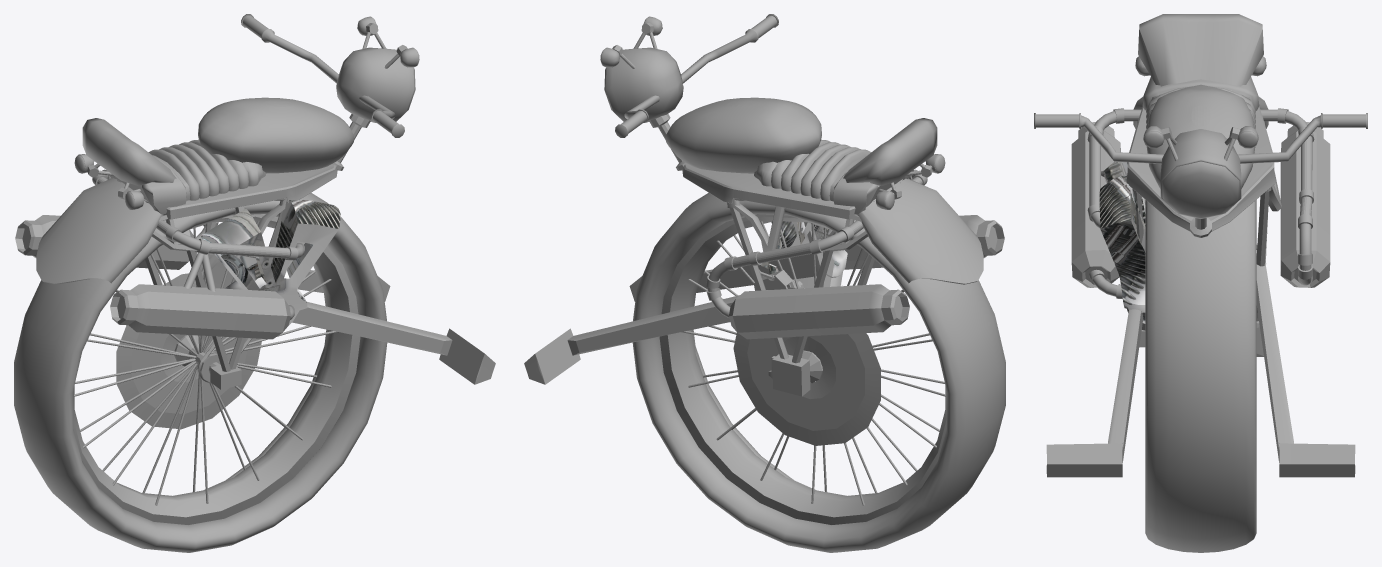
File: UniMotorBike.fbx
3 views of the same model, side by side, from view 1: azimuth 30°, elevation 25°; view 2: azimuth 150°, elevation 25°; view 3: azimuth 270°, elevation 25° (orthographic). The views are drawn at different scales.
Visible parts, largest first — view 1: Other_Kind_of_wheel, Gas_Tank, Mud_Guard, Exhaust_4_Geo, Engine, Brake, FootRest_1_Geo, Seat, Headlight, Frame_Main_3_Geo, Back_Seat, Handlebars (+7 smaller); view 2: Other_Kind_of_wheel, Brake, Gas_Tank, Mud_Guard, Exhaust_5_Geo, FootRest_1_Geo, Seat, Headlight, Frame_Main_3_Geo, Back_Seat, Exhaust_2_Geo, Handlebars (+7 smaller); view 3: Other_Kind_of_wheel, FootRest_1_Geo, Back_Seat, Headlight, Exhaust_5_Geo, Engine, Gas_Tank, Exhaust_4_Geo, Frame_Main_3_Geo, Handlebars, Exhaust_2_Geo, Exhaust_1_Geo (+5 smaller).
Boxes of the visible parts, x1,y1,x2,y2 form: Other_Kind_of_wheel: (14,192,387,552); Gas_Tank: (198,97,354,173); Mud_Guard: (36,177,163,284); Exhaust_4_Geo: (110,284,290,339); Engine: (201,199,340,325); Brake: (116,271,261,429); FootRest_1_Geo: (200,253,495,384); Seat: (106,139,265,214); Headlight: (336,47,415,122); Frame_Main_3_Geo: (117,164,337,219); Back_Seat: (82,118,176,185); Handlebars: (241,14,404,137); Other_Kind_of_wheel: (632,192,1005,552); Brake: (733,287,880,445); Gas_Tank: (665,97,821,173); Mud_Guard: (857,178,983,284); Exhaust_5_Geo: (729,284,909,339); FootRest_1_Geo: (524,253,822,384); Seat: (754,139,913,214); Headlight: (604,47,683,122); Frame_Main_3_Geo: (682,164,902,219); Back_Seat: (842,118,937,185); Exhaust_2_Geo: (706,220,863,319); Handlebars: (615,14,778,137); Other_Kind_of_wheel: (1145,200,1256,552); FootRest_1_Geo: (1046,263,1355,477); Back_Seat: (1138,14,1263,90); Headlight: (1160,129,1241,218); Exhaust_5_Geo: (1280,122,1330,287); Engine: (1099,161,1145,323); Gas_Tank: (1146,84,1255,188); Exhaust_4_Geo: (1071,122,1120,287); Frame_Main_3_Geo: (1126,106,1275,231); Handlebars: (1034,113,1367,163); Exhaust_2_Geo: (1260,108,1314,285); Exhaust_1_Geo: (1087,108,1141,228).
Size of the model in its own units: 22.72 by 25.1 by 14.98.
